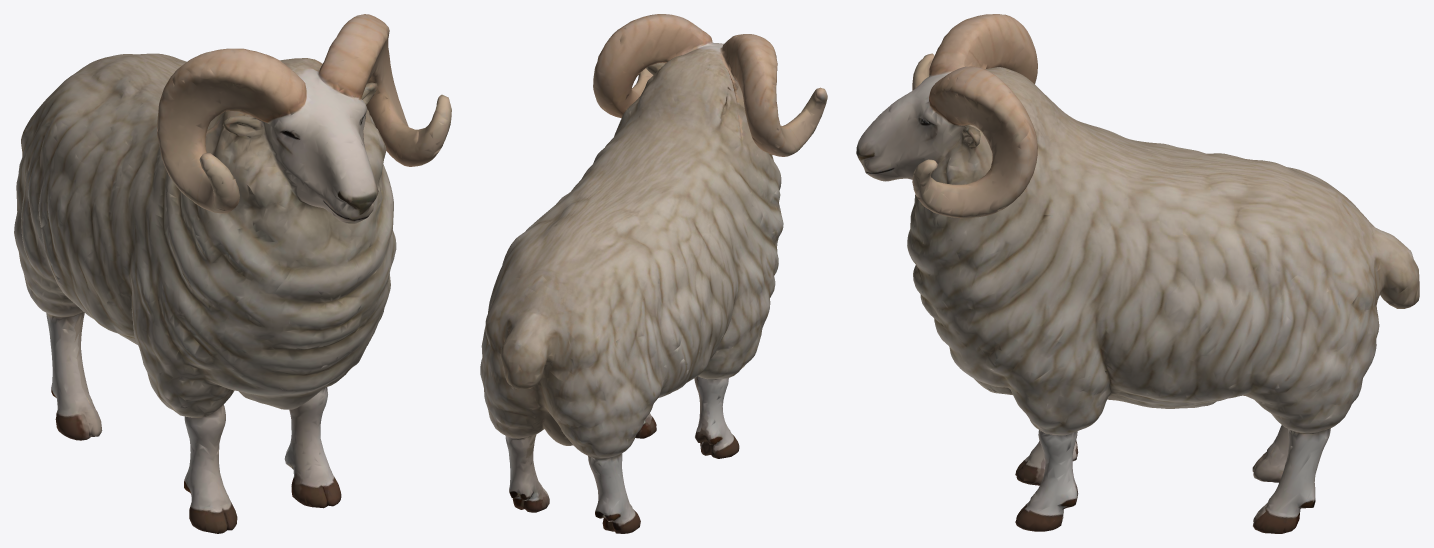
Rendered from oveja.glb.
The picture shows the model from 3 angles, left to right: view 1: azimuth 30°, elevation 25°; view 2: azimuth 150°, elevation 25°; view 3: azimuth 270°, elevation 25°; orthographic projection. The views are drawn at different scales.
Parts seen in each view (by area): view 1: oveja; view 2: oveja; view 3: oveja.
Part boxes in pixels (x1,y1,x2,y2): oveja: [14, 14, 451, 533]; oveja: [480, 14, 827, 533]; oveja: [856, 14, 1419, 533].
Size of the model in its own units: 0.4614 by 0.88 by 0.9839.
1 material, 1 textured.
